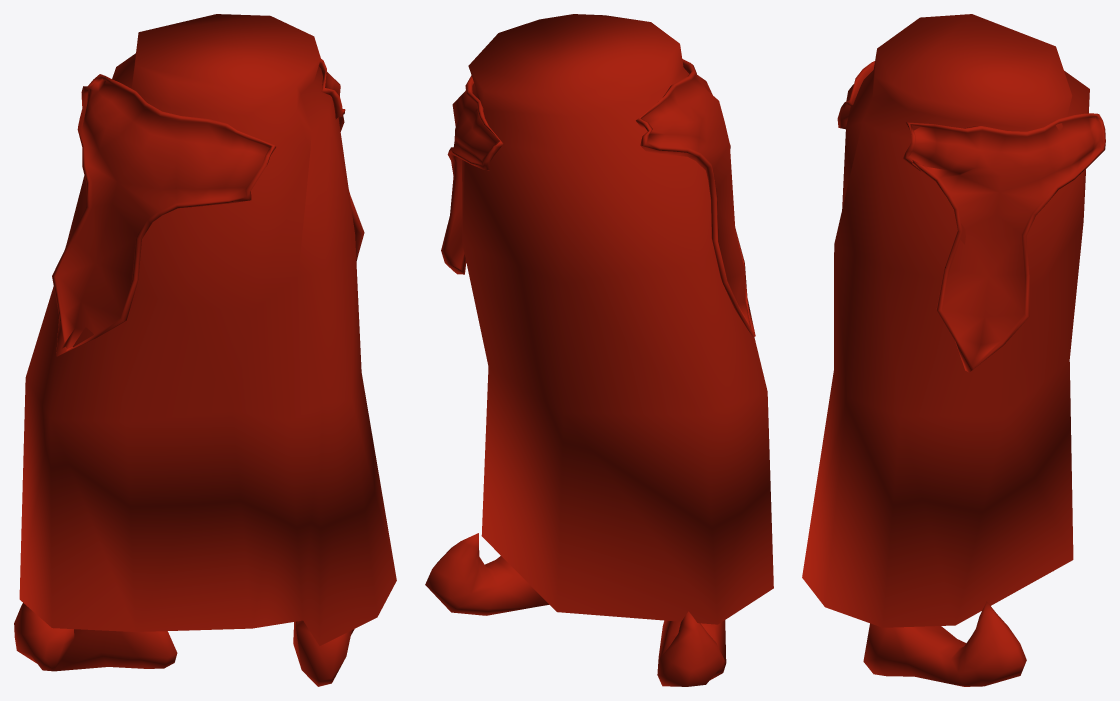
The model's file is bot_000057.obj.
3 renders of one model, left to right at view 1: azimuth 30°, elevation 25°; view 2: azimuth 150°, elevation 25°; view 3: azimuth 270°, elevation 25°, orthographic. The views are drawn at different scales.
Parts seen in each view (by area): view 1: LowPoly_Warlock.004_Plane.004; view 2: LowPoly_Warlock.004_Plane.004; view 3: LowPoly_Warlock.004_Plane.004.
Boxes of the visible parts, x1=… form: LowPoly_Warlock.004_Plane.004: x1=14, y1=14, x2=396, y2=686; LowPoly_Warlock.004_Plane.004: x1=425, y1=14, x2=773, y2=686; LowPoly_Warlock.004_Plane.004: x1=802, y1=14, x2=1105, y2=686.
Size of the model in its own units: 0.6258 by 1.13 by 0.5249.
